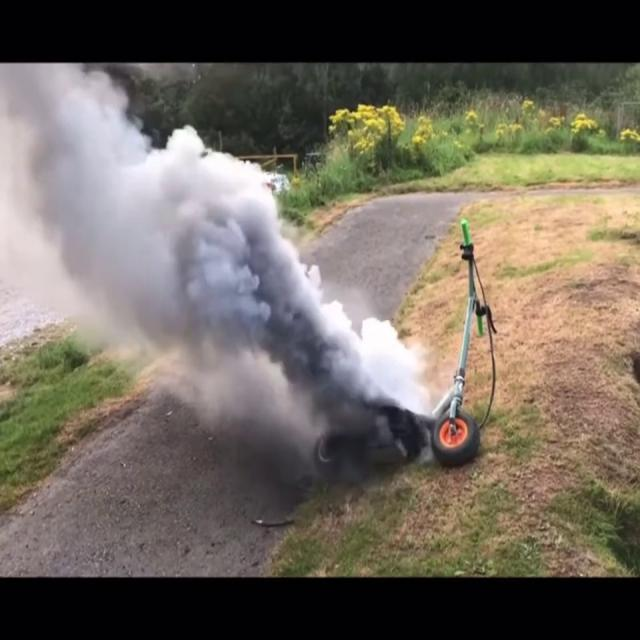Smoke: (63, 234, 414, 453), (0, 64, 221, 350)
